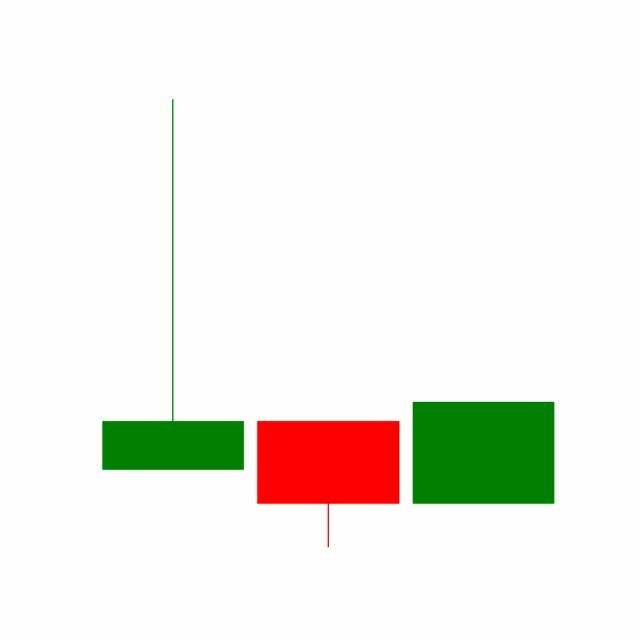Marubozu: (406, 401, 562, 506)
